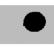correct: (20, 8, 47, 34)
